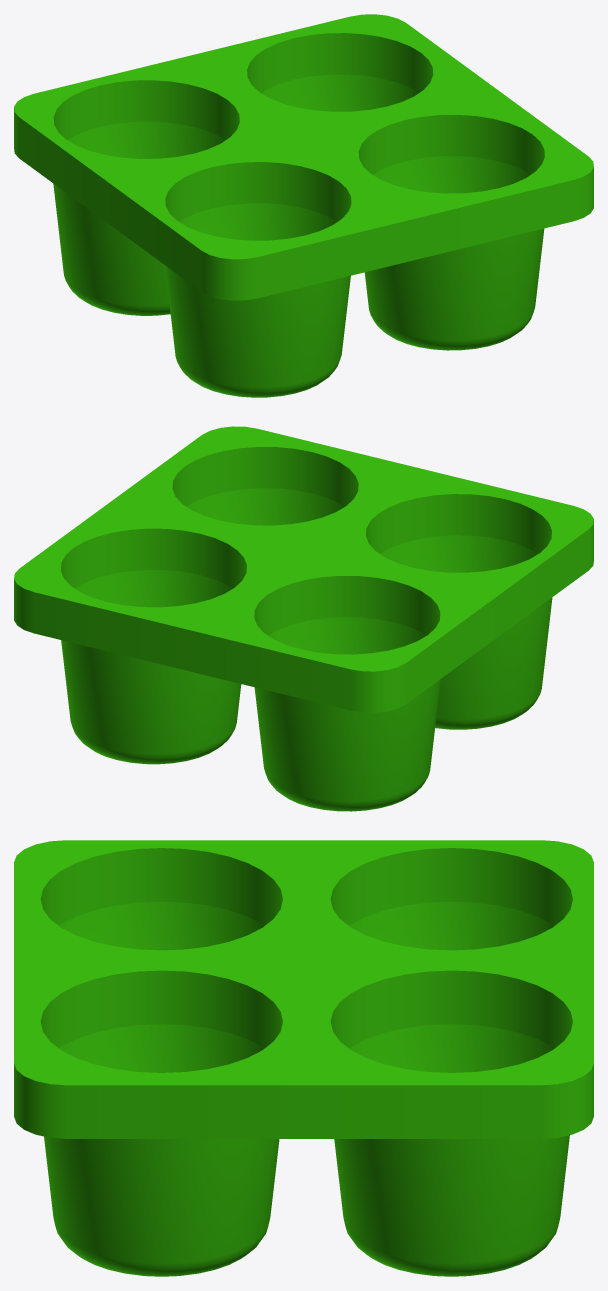
The model's file is Cupcake Tray Sort - Tray 1.fbx.
The picture shows the model from 3 angles, top to bottom: view 1: azimuth 30°, elevation 25°; view 2: azimuth 150°, elevation 25°; view 3: azimuth 270°, elevation 25°; orthographic projection. The views are drawn at different scales.
Visible parts, largest first — view 1: tray 1; view 2: tray 1; view 3: tray 1.
Part boxes in pixels (bbox=[...]): tray 1: bbox=[14, 14, 593, 397]; tray 1: bbox=[14, 426, 593, 811]; tray 1: bbox=[14, 840, 593, 1276].
Size of the model in its own units: 0.098 by 0.098 by 0.0408.
